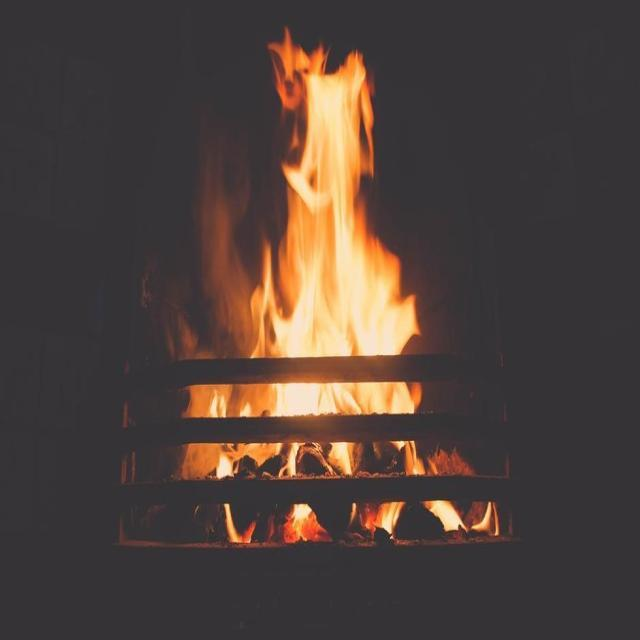Fire: (246, 24, 422, 358), (266, 383, 416, 416), (422, 498, 499, 538), (348, 502, 405, 538), (392, 442, 438, 475), (223, 503, 257, 543), (282, 502, 314, 542), (276, 443, 300, 479), (330, 441, 352, 476), (216, 452, 235, 479), (209, 391, 227, 416), (238, 401, 252, 418)
Smoke: (164, 153, 255, 361)
